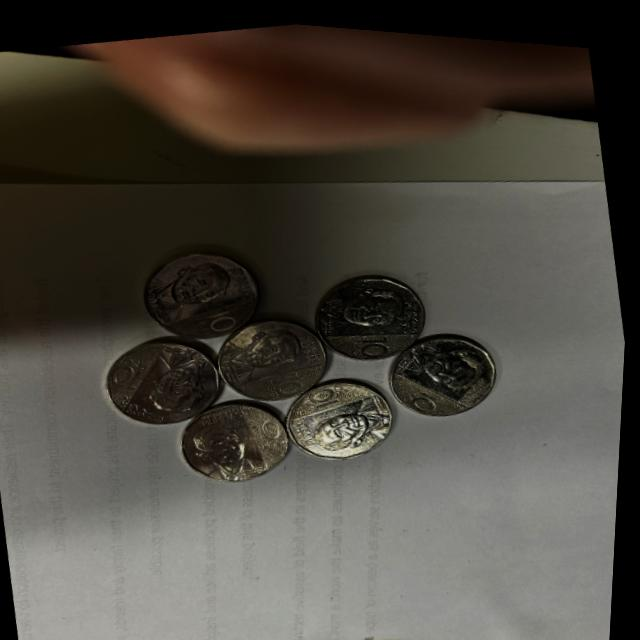10_New_Front: (189, 296, 249, 343), (400, 365, 450, 413), (112, 350, 163, 394), (347, 321, 396, 363), (260, 363, 311, 400), (250, 408, 292, 452), (307, 376, 355, 406)
